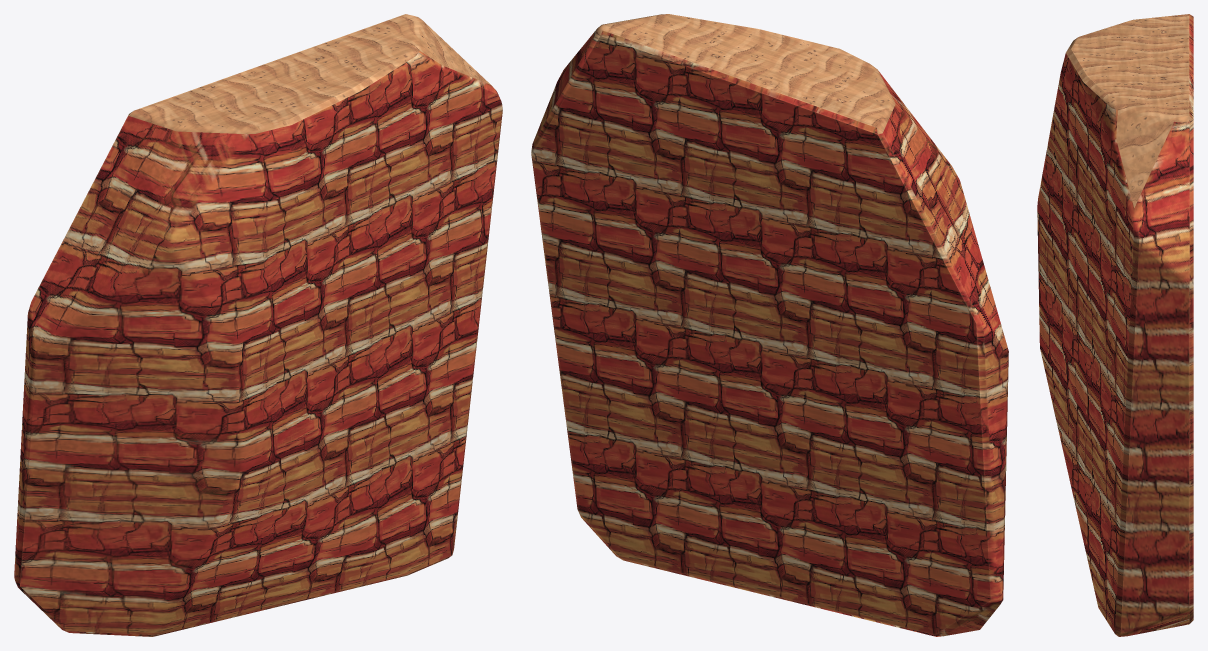
File: v4_cliff_w_00.glb
3 renders of one model, left to right at view 1: azimuth 30°, elevation 25°; view 2: azimuth 150°, elevation 25°; view 3: azimuth 270°, elevation 25°, orthographic.
Parts seen in each view (by area): view 1: v4_cliff_w_00; view 2: v4_cliff_w_00; view 3: v4_cliff_w_00.
Boxes of the visible parts, bbox=[...] form: v4_cliff_w_00: bbox=[14, 14, 502, 636]; v4_cliff_w_00: bbox=[531, 14, 1008, 636]; v4_cliff_w_00: bbox=[1037, 14, 1193, 636].
Bounding box in the file's own units: 7.47 × 7.99 × 2.19.
1 material, 1 textured.
